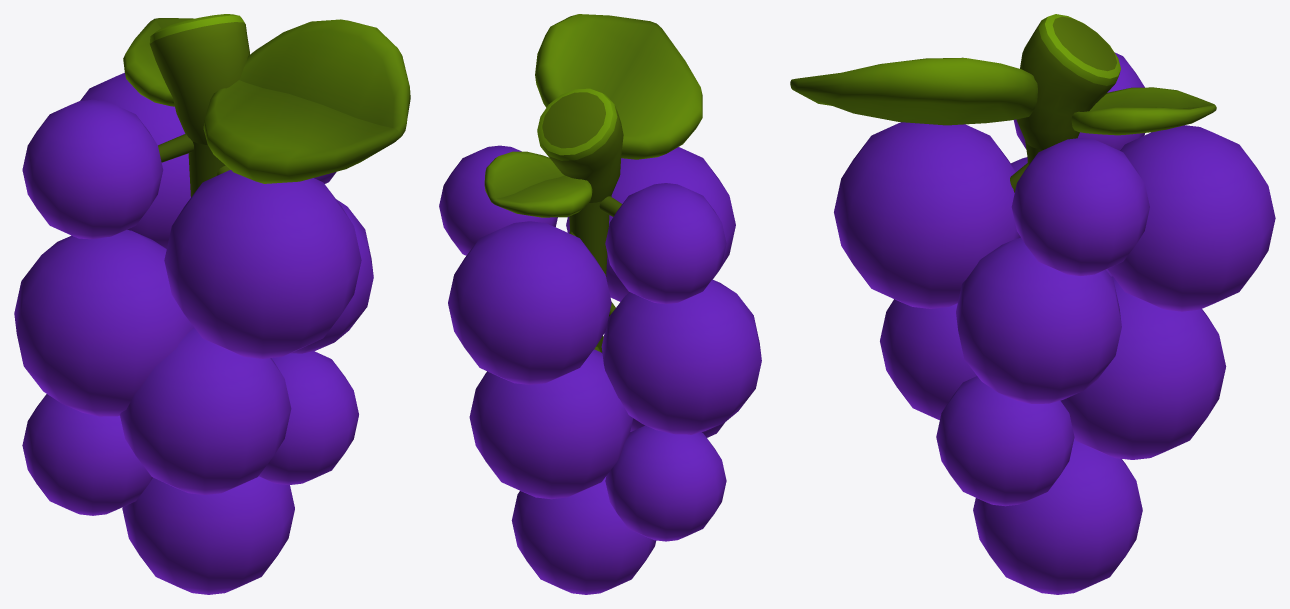
File: Grape_V1_00.fbx
The picture shows the model from 3 angles, left to right: view 1: azimuth 30°, elevation 25°; view 2: azimuth 150°, elevation 25°; view 3: azimuth 270°, elevation 25°; orthographic projection. The views are drawn at different scales.
Parts seen in each view (by area): view 1: Grape_V1_00; view 2: Grape_V1_00; view 3: Grape_V1_00.
Boxes of the visible parts, x1=… form: Grape_V1_00: x1=14, y1=14, x2=410, y2=594; Grape_V1_00: x1=439, y1=14, x2=761, y2=594; Grape_V1_00: x1=790, y1=14, x2=1275, y2=594.
Size of the model in its own units: 28.94 by 48 by 36.79.
